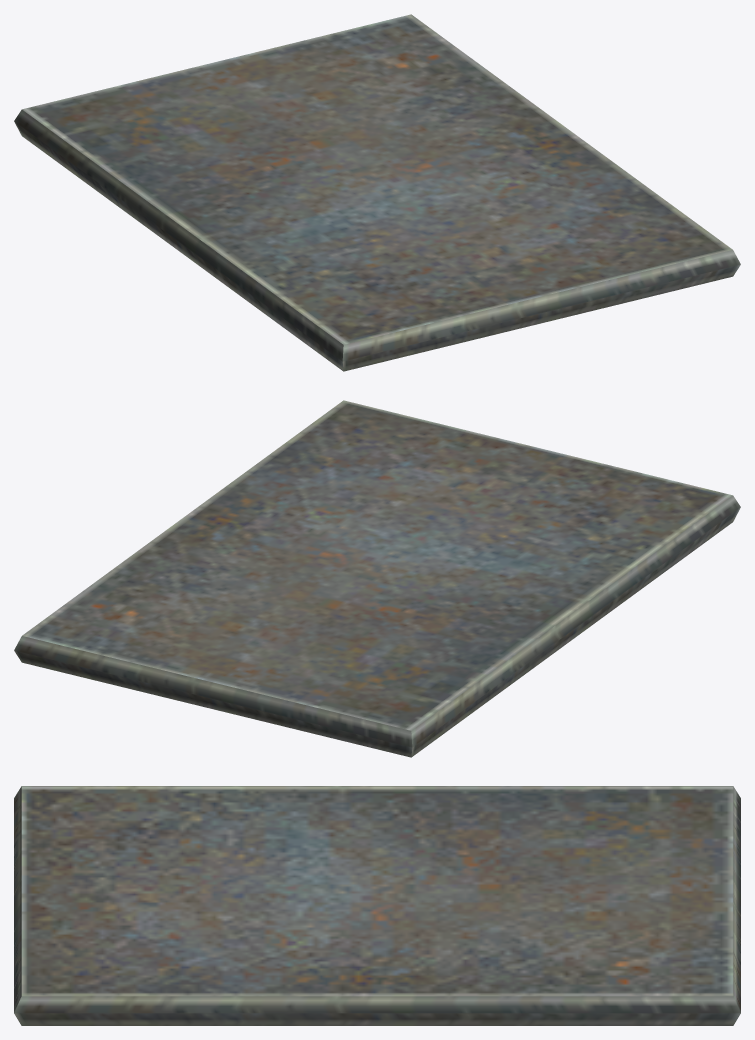
Rendered from scanningroom_floor_marble02.dae.
The picture shows the model from 3 angles, top to bottom: view 1: azimuth 30°, elevation 25°; view 2: azimuth 150°, elevation 25°; view 3: azimuth 270°, elevation 25°; orthographic projection. The views are drawn at different scales.
Visible parts, largest first — view 1: polySurface1; view 2: polySurface1; view 3: polySurface1.
Part boxes in pixels (bbox=[...]): polySurface1: bbox=[14, 14, 740, 371]; polySurface1: bbox=[14, 400, 740, 757]; polySurface1: bbox=[14, 786, 740, 1025].
Bounding box in the file's own units: 0.1846 × 0.0118 × 0.2637.
